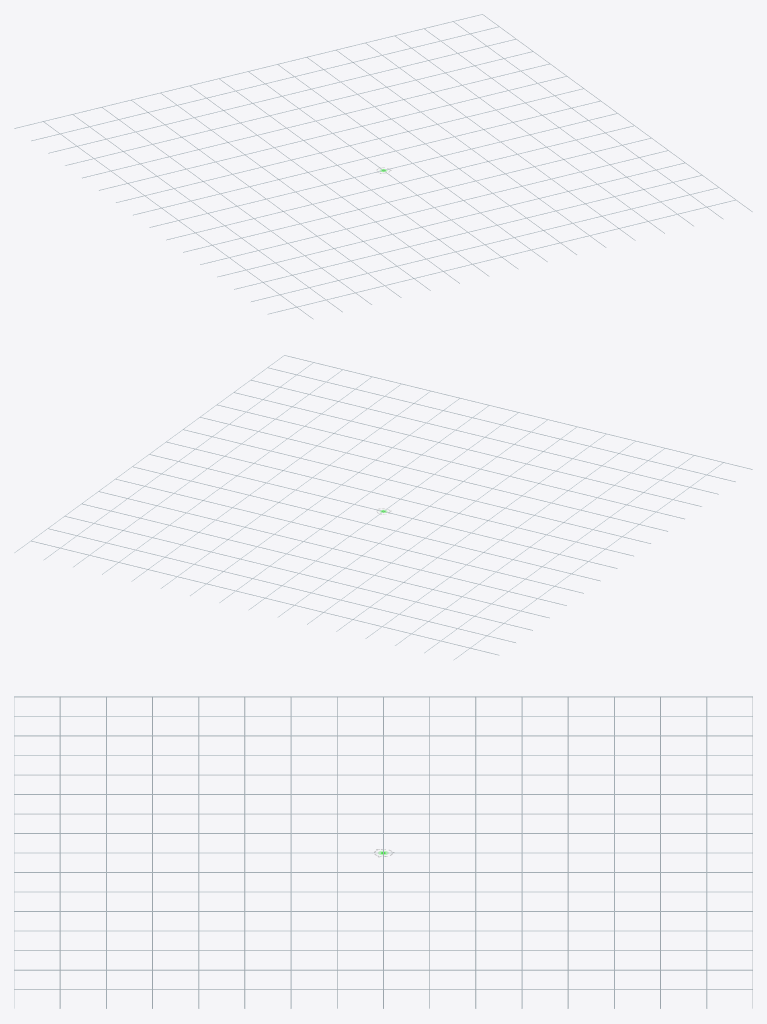
The model's file is support_assets.glb.
3 renders of one model, top to bottom at view 1: azimuth 30°, elevation 25°; view 2: azimuth 150°, elevation 25°; view 3: azimuth 270°, elevation 25°, orthographic. The views are drawn at different scales.
Visible parts, largest first — view 1: grid; view 2: grid; view 3: grid.
Boxes of the visible parts, x1,y1,x2,y2 form: grid: (14, 14, 752, 319); grid: (14, 355, 752, 660); grid: (14, 696, 752, 1008).
Size of the model in its own units: 16 by 0.02 by 16.
2 materials, 1 textured.
